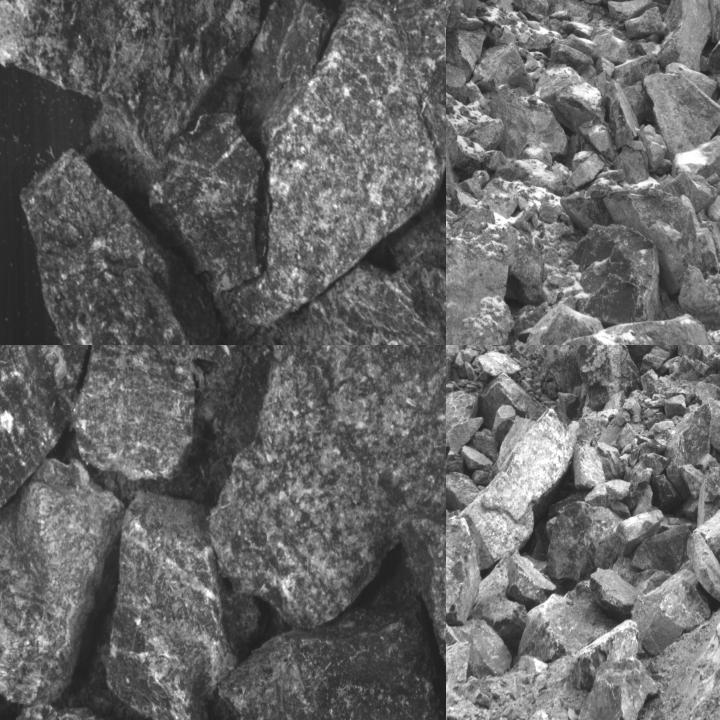stone: (233, 0, 445, 329), (212, 345, 445, 631), (0, 0, 266, 181), (20, 151, 205, 344), (101, 474, 239, 719), (0, 456, 123, 707), (221, 585, 445, 719), (150, 110, 260, 304), (459, 406, 577, 572), (50, 345, 323, 411), (446, 175, 552, 344), (0, 345, 87, 541), (233, 265, 445, 344), (74, 345, 197, 479), (614, 185, 719, 324), (238, 0, 330, 137), (400, 515, 445, 719), (570, 223, 659, 325), (516, 582, 606, 665), (634, 563, 712, 654), (644, 71, 719, 160), (546, 503, 618, 588), (487, 86, 567, 158), (576, 657, 662, 719), (534, 63, 605, 133), (570, 623, 638, 691), (564, 315, 715, 344), (486, 305, 597, 344), (575, 345, 640, 410), (664, 403, 711, 490), (657, 0, 712, 74), (446, 513, 480, 626), (449, 618, 512, 678), (632, 523, 691, 575), (507, 552, 558, 609), (591, 568, 639, 622), (446, 600, 472, 697), (616, 509, 664, 557), (446, 389, 479, 454), (573, 439, 612, 490), (446, 471, 480, 511), (639, 346, 671, 377), (492, 404, 515, 444), (705, 34, 719, 75), (676, 345, 704, 362), (710, 413, 719, 456)
